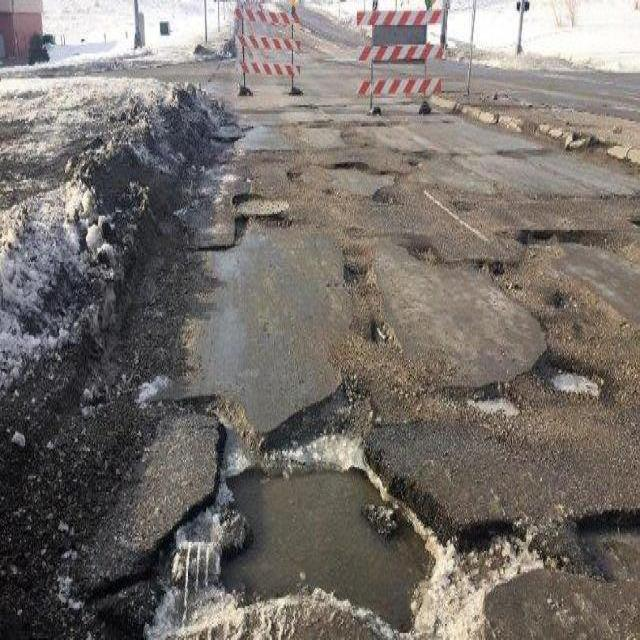jalan retak: (254, 112, 338, 136)
lubang: (73, 369, 540, 638), (500, 240, 640, 455), (323, 299, 472, 431), (526, 339, 616, 424), (335, 255, 404, 356), (565, 496, 639, 588), (457, 364, 542, 440), (209, 196, 305, 257), (316, 152, 406, 216), (508, 214, 626, 260), (397, 130, 479, 179), (483, 179, 588, 212), (558, 116, 622, 168), (178, 224, 252, 268), (240, 142, 312, 185), (394, 239, 467, 280), (481, 251, 534, 307), (208, 109, 260, 155), (491, 137, 555, 171), (306, 109, 399, 132), (340, 219, 378, 251), (440, 188, 480, 216), (628, 198, 640, 239)
